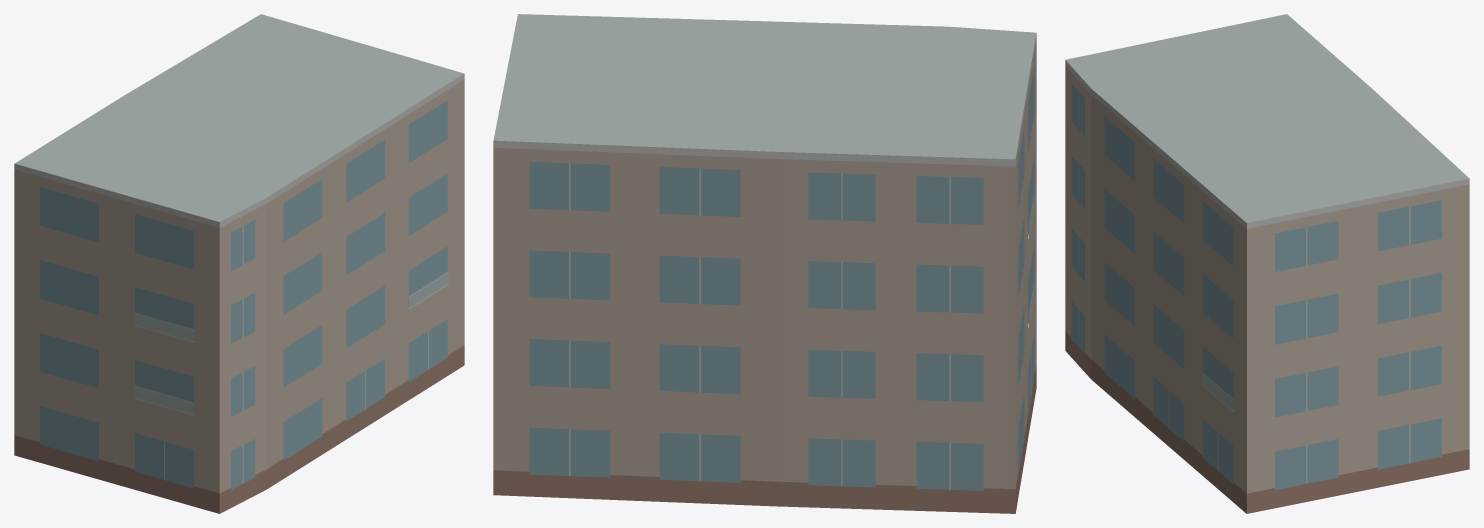
The model's file is survey-upis-32771196.glb.
The picture shows the model from 3 angles, left to right: view 1: azimuth 30°, elevation 25°; view 2: azimuth 150°, elevation 25°; view 3: azimuth 270°, elevation 25°; orthographic projection. The views are drawn at different scales.
Parts seen in each view (by area): view 1: survey-upis-32771196.tmp; view 2: survey-upis-32771196.tmp; view 3: survey-upis-32771196.tmp.
Boxes of the visible parts, <box> form: survey-upis-32771196.tmp: <box>14,14,464,513</box>; survey-upis-32771196.tmp: <box>493,14,1036,513</box>; survey-upis-32771196.tmp: <box>1065,14,1469,513</box>.
Size of the model in its own units: 18.82 by 12.2 by 15.38.
